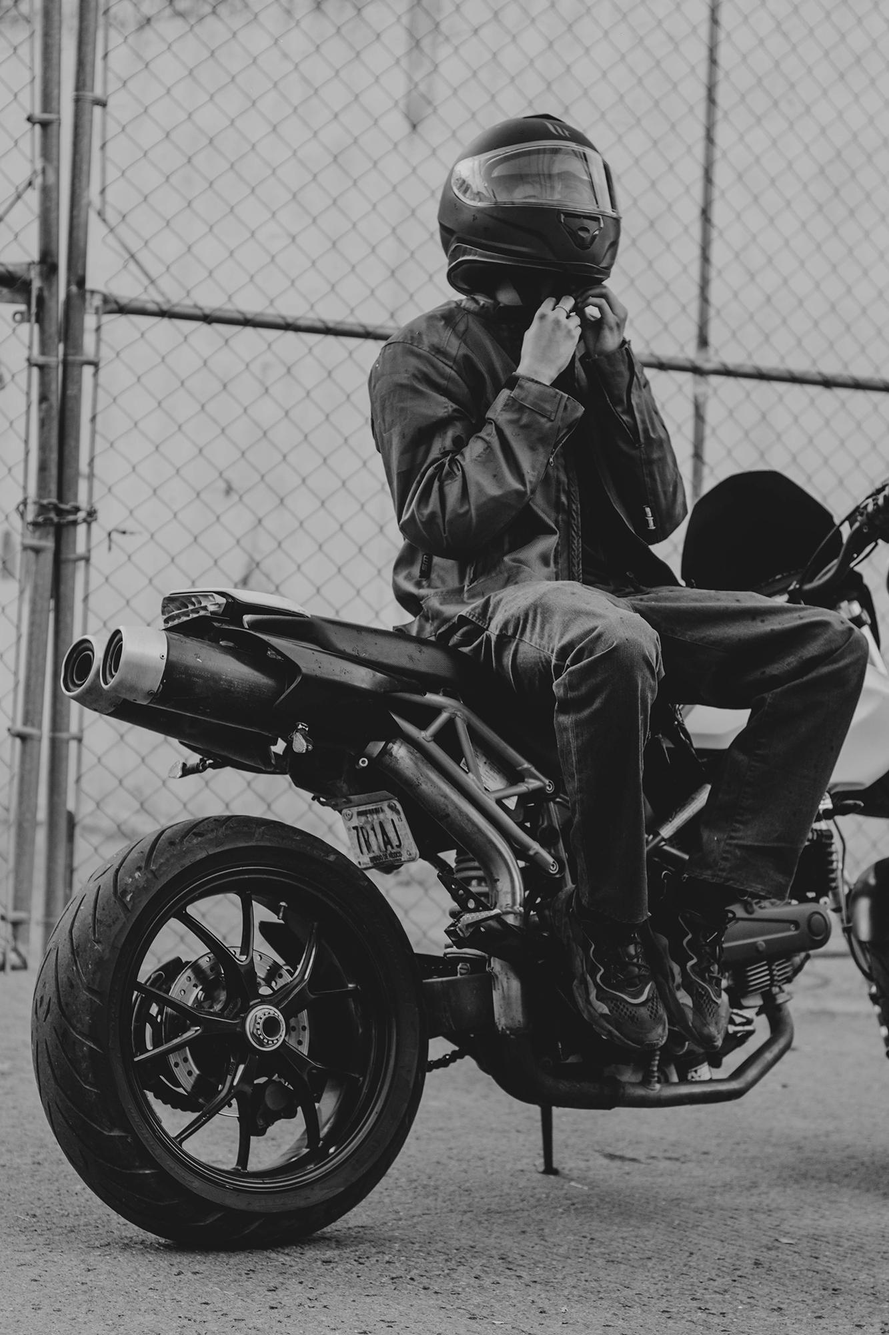helmet: (437, 112, 623, 303)
